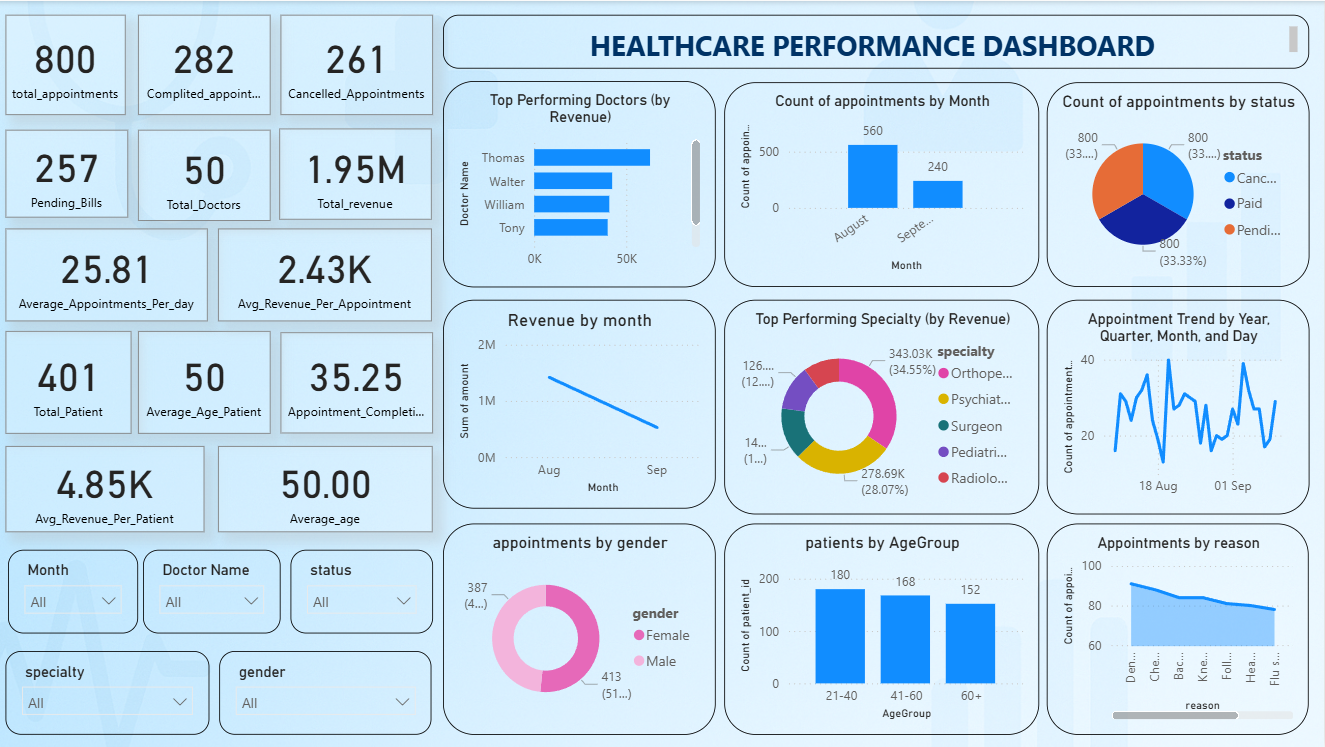

Layout of this report page (visuals, bound fields, positions):
{"tool":"powerbi","page":{"name":"Page 1","canvas":[1280,720],"ordinal":0},"visuals":[{"type":"card","fields":{"Values":["appointments.Total_Patient"]},"box":[7.2,318.5,121.9,98.9],"z":0},{"type":"card","fields":{"Values":["appointments.Total_Doctors"]},"box":[135.1,124.3,127.9,88.1],"z":1000},{"type":"card","fields":{"Values":["billing.Total_revenue"]},"box":[271.4,123.1,147.2,88.1],"z":2000},{"type":"card","fields":{"Values":["appointments.total_appointments"]},"box":[7.2,13.3,115.8,96.5],"z":3000},{"type":"card","fields":{"Values":["appointments.Complited_appointments"]},"box":[135.1,13.3,127.9,96.5],"z":4000},{"type":"card","fields":{"Values":["appointments.Pending_Bills"]},"box":[7.2,124.3,118.2,84.5],"z":5000},{"type":"card","fields":{"Values":["appointments.Cancelled_Appointments"]},"box":[272.7,13.3,147.2,96.5],"z":6000},{"type":"card","fields":{"Values":["appointments.Appointment_Completion"]},"box":[272.7,319.7,147.2,97.7],"z":7000},{"type":"card","fields":{"Values":["appointments.Average_Appointments_Per_day"]},"box":[7.2,219.6,195.4,89.3],"z":8000},{"type":"card","fields":{"Values":["billing.Average_Age_Patient"]},"box":[135.1,318.5,127.9,98.9],"z":9000},{"type":"card","fields":{"Values":["appointments.Avg_Revenue_Per_Appointment"]},"box":[212.3,219.6,206.3,89.3],"z":10000},{"type":"barChart","title":"Top Performing Doctors (by Revenue)","fields":{"Category":["doctors.first_name"],"Y":["billing.amount"]},"box":[429.5,77.2,263,199.1],"z":11000},{"type":"columnChart","title":"Count of appointments by Month","fields":{"Category":["appointments.appointment_date.Variation.Date Hierarchy.Month"],"Y":["appointments.appointment_id"]},"box":[700.9,78.4,304,197.9],"z":12000},{"type":"pieChart","title":"Count of appointments by status","fields":{"Category":["billing.status"],"Y":["appointments.appointment_id"]},"box":[1012.2,78.4,253.4,197.9],"z":13000},{"type":"donutChart","title":"Top Performing Specialty (by Revenue)","fields":{"Category":["doctors.specialty"],"Y":["billing.amount"]},"box":[700.9,288.3,304,207.5],"z":14000},{"type":"lineChart","title":"Appointment Trend by Year, Quarter, Month, and Day","fields":{"Y":["appointments.appointment_id"],"Category":["appointments.appointment_date.Variation.Date Hierarchy.Year","appointments.appointment_date.Variation.Date Hierarchy.Quarter","appointments.appointment_date.Variation.Date Hierarchy.Month","appointments.appointment_date.Variation.Date Hierarchy.Day"]},"box":[1012.2,288.3,253.4,207.5],"z":15000},{"type":"slicer","fields":{"Values":["appointments.appointment_date.Variation.Date Hierarchy.Month"]},"box":[9.7,529.6,125.5,80.8],"z":16000},{"type":"slicer","fields":{"Values":["doctors.first_name"]},"box":[139.9,529.6,132.7,80.8],"z":17000},{"type":"slicer","fields":{"Values":["doctors.specialty"]},"box":[7.2,627.3,196.6,80.8],"z":18000},{"type":"slicer","fields":{"Values":["billing.status"]},"box":[282.3,529.6,137.5,80.8],"z":19000},{"type":"card","fields":{"Values":["appointments.Avg_Revenue_Per_Patient"]},"box":[7.2,429.5,191.8,83.2],"z":20000},{"type":"textbox","box":[429.5,13.3,836.1,51.9],"z":21000},{"type":"lineChart","title":"Revenue by month","fields":{"Category":["appointments.Month"],"Y":["billing.amount"]},"box":[429.5,288.3,263,201.5],"z":22000},{"type":"slicer","fields":{"Values":["patients.gender"]},"box":[213.5,627.3,205.1,80.8],"z":22001},{"type":"card","fields":{"Values":["appointments.Average_age"]},"box":[212.3,429.5,207.5,83.2],"z":22002},{"type":"donutChart","title":"appointments by gender","fields":{"Category":["patients.gender"],"Y":["appointments.appointment_id"]},"box":[429.5,504.3,263,203.9],"z":22003},{"type":"columnChart","title":"patients by AgeGroup","fields":{"Category":["patients.AgeGroup"],"Y":["patients.patient_id"]},"box":[700.9,504.3,304,203.9],"z":22004},{"type":"areaChart","title":"Appointments by reason","fields":{"Category":["appointments.reason"],"Y":["appointments.appointment_id"]},"box":[1012,504,253,204],"z":22005}]}

Visuals, with their boxes in screenshot pixels (x1, y1, x2, y2), scaled from the page's 1280x720 canvas onto the 1325x747 screenshot:
card - appointments.Total_Patient: crop(7, 330, 134, 433)
card - appointments.Total_Doctors: crop(140, 129, 272, 220)
card - billing.Total_revenue: crop(281, 128, 433, 219)
card - appointments.total_appointments: crop(7, 14, 127, 114)
card - appointments.Complited_appointments: crop(140, 14, 272, 114)
card - appointments.Pending_Bills: crop(7, 129, 130, 217)
card - appointments.Cancelled_Appointments: crop(282, 14, 435, 114)
card - appointments.Appointment_Completion: crop(282, 332, 435, 433)
card - appointments.Average_Appointments_Per_day: crop(7, 228, 210, 320)
card - billing.Average_Age_Patient: crop(140, 330, 272, 433)
card - appointments.Avg_Revenue_Per_Appointment: crop(220, 228, 433, 320)
"Top Performing Doctors (by Revenue)" barChart: crop(445, 80, 717, 287)
"Count of appointments by Month" columnChart: crop(726, 81, 1040, 287)
"Count of appointments by status" pieChart: crop(1048, 81, 1310, 287)
"Top Performing Specialty (by Revenue)" donutChart: crop(726, 299, 1040, 514)
"Appointment Trend by Year, Quarter, Month, and Day" lineChart: crop(1048, 299, 1310, 514)
slicer - appointments.appointment_date.Variation.Date Hierarchy.Month: crop(10, 549, 140, 633)
slicer - doctors.first_name: crop(145, 549, 282, 633)
slicer - doctors.specialty: crop(7, 651, 211, 735)
slicer - billing.status: crop(292, 549, 435, 633)
card - appointments.Avg_Revenue_Per_Patient: crop(7, 446, 206, 532)
textbox: crop(445, 14, 1310, 68)
"Revenue by month" lineChart: crop(445, 299, 717, 508)
slicer - patients.gender: crop(221, 651, 433, 735)
card - appointments.Average_age: crop(220, 446, 435, 532)
"appointments by gender" donutChart: crop(445, 523, 717, 735)
"patients by AgeGroup" columnChart: crop(726, 523, 1040, 735)
"Appointments by reason" areaChart: crop(1048, 523, 1309, 735)
